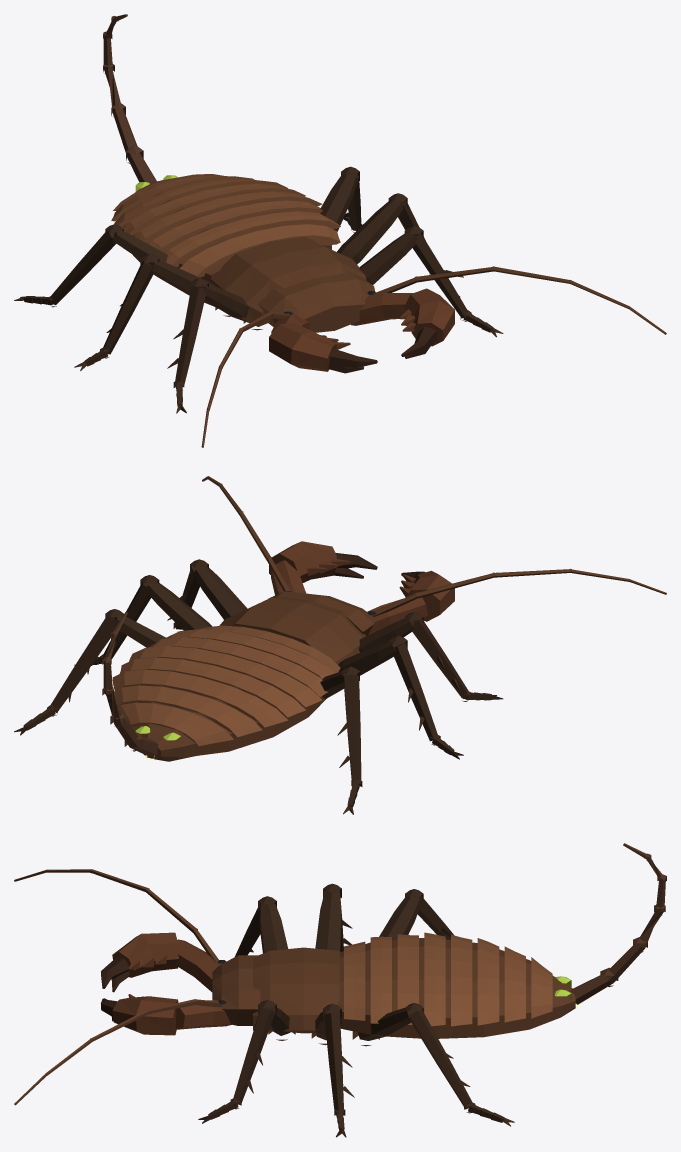
The model's file is whiptail.glb.
3 views of the same model, one above another, from view 1: azimuth 30°, elevation 25°; view 2: azimuth 150°, elevation 25°; view 3: azimuth 270°, elevation 25° (orthographic).
Parts seen in each view (by area): view 1: BeetlePlate_tergite, ThoraxCore, pincer_arm, HeadBase001, whip_lash, Femur002, Tibia001, Tibia003, pincer_tip, Femur000, Tibia005, Tibia000 (+5 smaller); view 2: BeetlePlate_tergite, ThoraxCore, pincer_arm, BeetleBodyInner, Tibia005, whip_lash, Tibia004, Tibia003, Femur002, Femur000, Tibia001, HeadBase001 (+5 smaller); view 3: BeetlePlate_tergite, pincer_arm, BeetleBodyInner, ThoraxCore, HeadBase001, whip_lash, Tibia004, Tibia002, Tibia000, Femur003, Femur001, Femur005 (+4 smaller).
Boxes of the visible parts, x1=… form: BeetlePlate_tergite: x1=111, y1=174, x2=340, y2=277; ThoraxCore: x1=209, y1=236, x2=366, y2=326; pincer_arm: x1=269, y1=288, x2=454, y2=371; HeadBase001: x1=258, y1=271, x2=374, y2=332; whip_lash: x1=103, y1=14, x2=156, y2=182; Femur002: x1=337, y1=200, x2=403, y2=264; Tibia001: x1=167, y1=286, x2=206, y2=386; Tibia003: x1=102, y1=261, x2=153, y2=354; pincer_tip: x1=328, y1=326, x2=436, y2=373; Femur000: x1=359, y1=232, x2=417, y2=284; Tibia005: x1=49, y1=231, x2=116, y2=304; Tibia000: x1=412, y1=233, x2=469, y2=318; BeetlePlate_tergite: x1=112, y1=625, x2=340, y2=746; ThoraxCore: x1=219, y1=597, x2=365, y2=664; pincer_arm: x1=269, y1=541, x2=454, y2=635; BeetleBodyInner: x1=131, y1=655, x2=325, y2=761; Tibia005: x1=337, y1=675, x2=361, y2=784; whip_lash: x1=103, y1=612, x2=158, y2=755; Tibia004: x1=50, y1=615, x2=115, y2=712; Tibia003: x1=393, y1=643, x2=438, y2=741; Femur002: x1=145, y1=581, x2=212, y2=630; Femur000: x1=193, y1=566, x2=247, y2=619; Tibia001: x1=412, y1=618, x2=469, y2=698; HeadBase001: x1=268, y1=591, x2=375, y2=635; BeetlePlate_tergite: x1=344, y1=932, x2=552, y2=1026; pincer_arm: x1=112, y1=932, x2=231, y2=1035; BeetleBodyInner: x1=337, y1=938, x2=575, y2=1038; ThoraxCore: x1=253, y1=947, x2=339, y2=1033; HeadBase001: x1=212, y1=955, x2=260, y2=1025; whip_lash: x1=570, y1=843, x2=665, y2=1004; Tibia004: x1=409, y1=1009, x2=472, y2=1109; Tibia002: x1=324, y1=1012, x2=354, y2=1113; Tibia000: x1=233, y1=1007, x2=274, y2=1104; Femur003: x1=315, y1=891, x2=341, y2=951; Femur001: x1=259, y1=903, x2=288, y2=953; Femur005: x1=379, y1=895, x2=421, y2=940.
Bounding box in the file's own units: 4.42 × 1.85 × 5.43.
